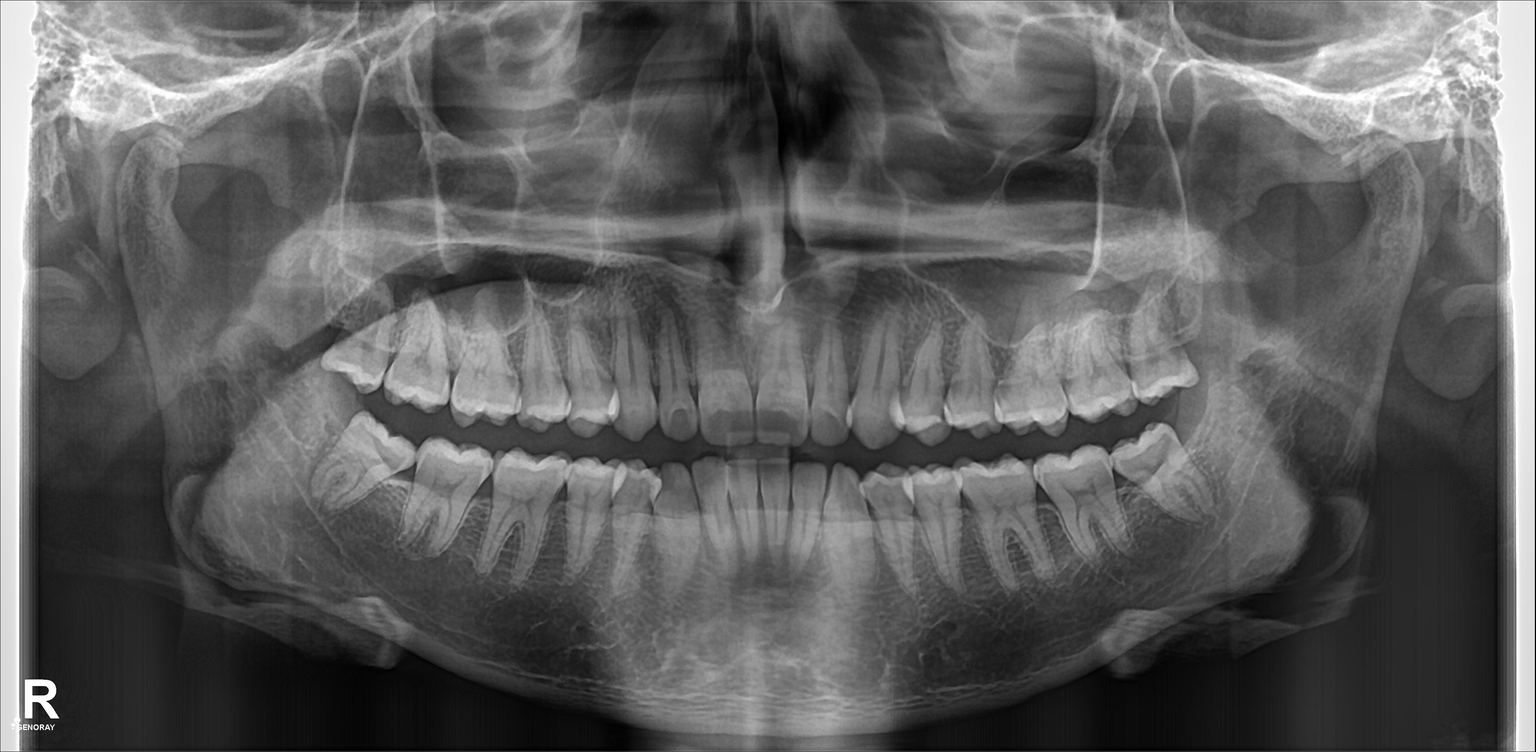Dental Caries: (665, 402, 694, 438)
Impacted Third Molar: (1117, 428, 1214, 523), (318, 419, 413, 509)
